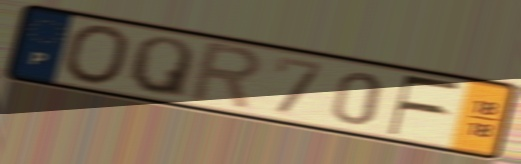0: (328, 70, 390, 126)
7: (270, 55, 325, 118)
F: (385, 73, 466, 139)
O: (59, 24, 133, 87)
Q: (125, 35, 197, 102)
R: (184, 39, 266, 115)
